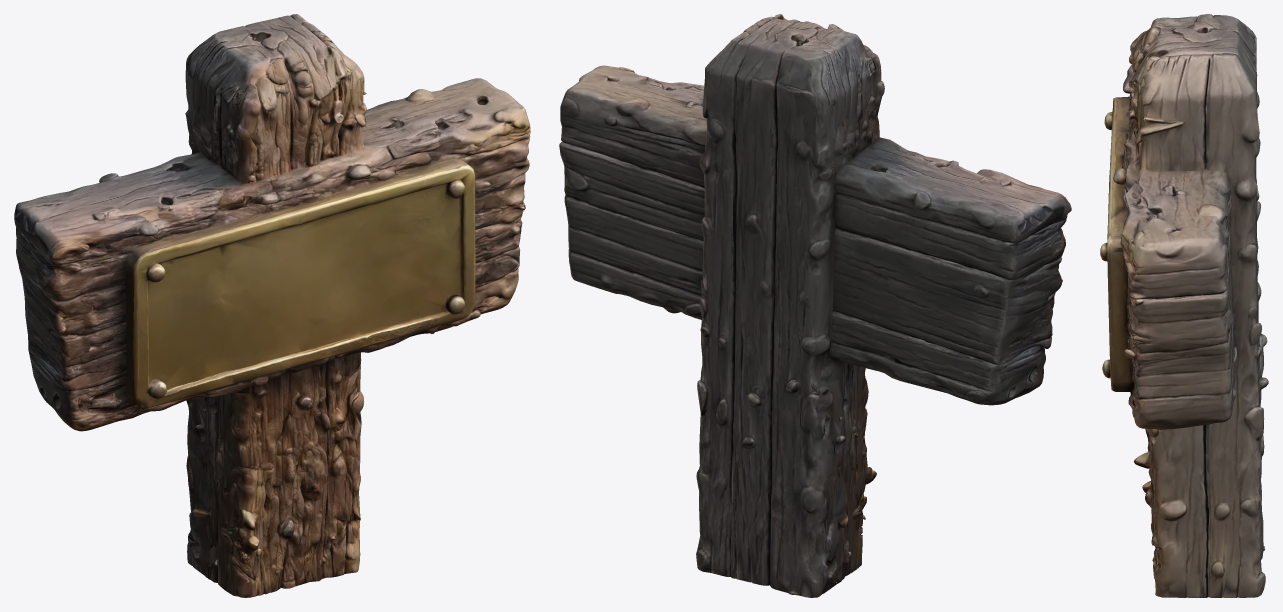
File: trail-post.glb
The picture shows the model from 3 angles, left to right: view 1: azimuth 30°, elevation 25°; view 2: azimuth 150°, elevation 25°; view 3: azimuth 270°, elevation 25°; orthographic projection.
Visible parts, largest first — view 1: node_1556a93b-c1f2-4bf2-ab53-a597d0f71a17; view 2: node_1556a93b-c1f2-4bf2-ab53-a597d0f71a17; view 3: node_1556a93b-c1f2-4bf2-ab53-a597d0f71a17.
Boxes of the visible parts, left/top/right/bottom form: node_1556a93b-c1f2-4bf2-ab53-a597d0f71a17: left=14, top=14, right=530, bottom=597; node_1556a93b-c1f2-4bf2-ab53-a597d0f71a17: left=559, top=14, right=1071, bottom=597; node_1556a93b-c1f2-4bf2-ab53-a597d0f71a17: left=1100, top=14, right=1268, bottom=597.
Bounding box in the file's own units: 0.9165 × 0.9794 × 0.281.
Materials: 1 (1 with a texture image).
